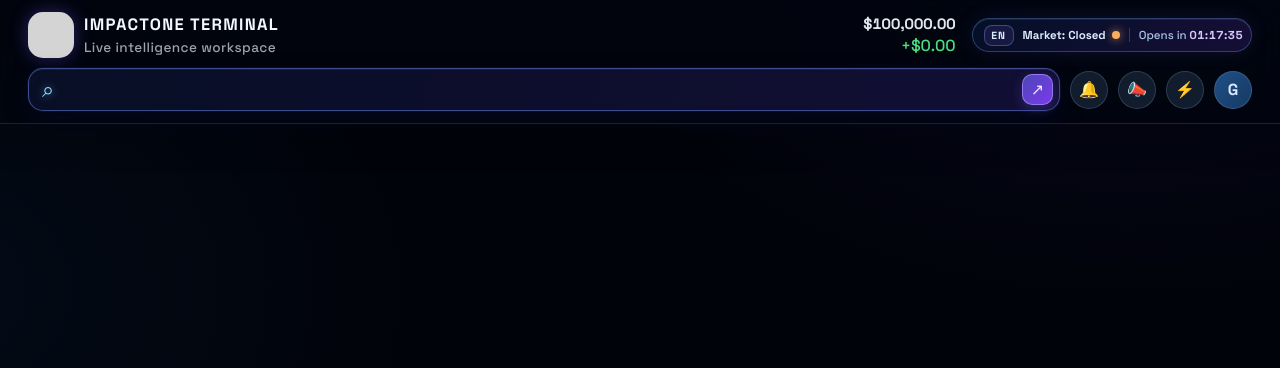
Scenario: Header search › shows the integrated language selector with the honest Hebrew availability state
This screenshot has width=1280, height=368.
Click the button with aria-label "Choose display language": coordinates (999, 35) [984,24,1014,46]
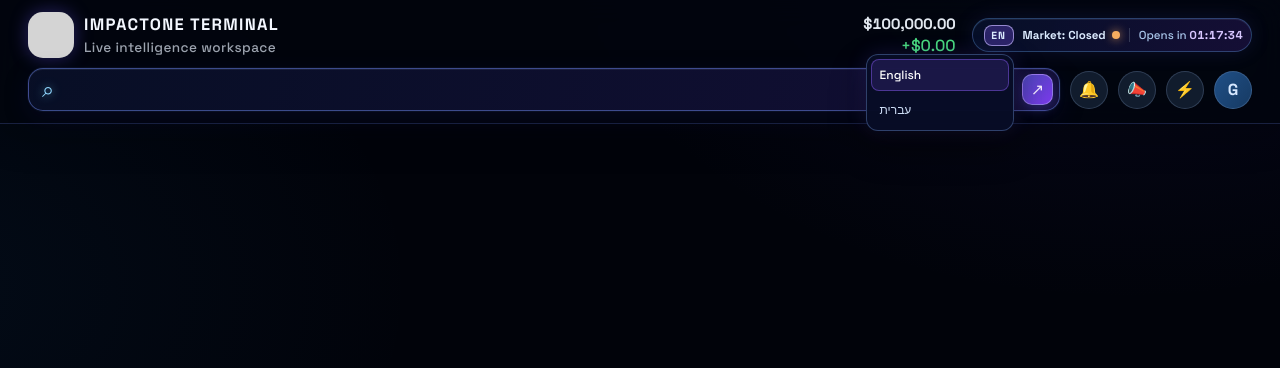
Now the button "English" is shown, box [871,58,1009,90]
